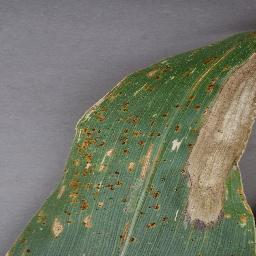Gray_Leaf_Spot: (68, 33, 256, 128), (164, 162, 255, 232), (36, 125, 166, 166), (29, 159, 155, 196), (15, 192, 133, 223), (165, 121, 256, 159), (98, 220, 153, 256), (3, 221, 40, 256), (130, 197, 172, 215), (134, 205, 162, 231), (138, 187, 178, 202), (38, 222, 76, 237), (78, 215, 91, 241), (154, 170, 173, 185), (242, 237, 256, 256), (191, 252, 205, 256), (227, 252, 237, 256), (74, 252, 82, 256), (76, 77, 89, 79), (189, 238, 199, 240)
